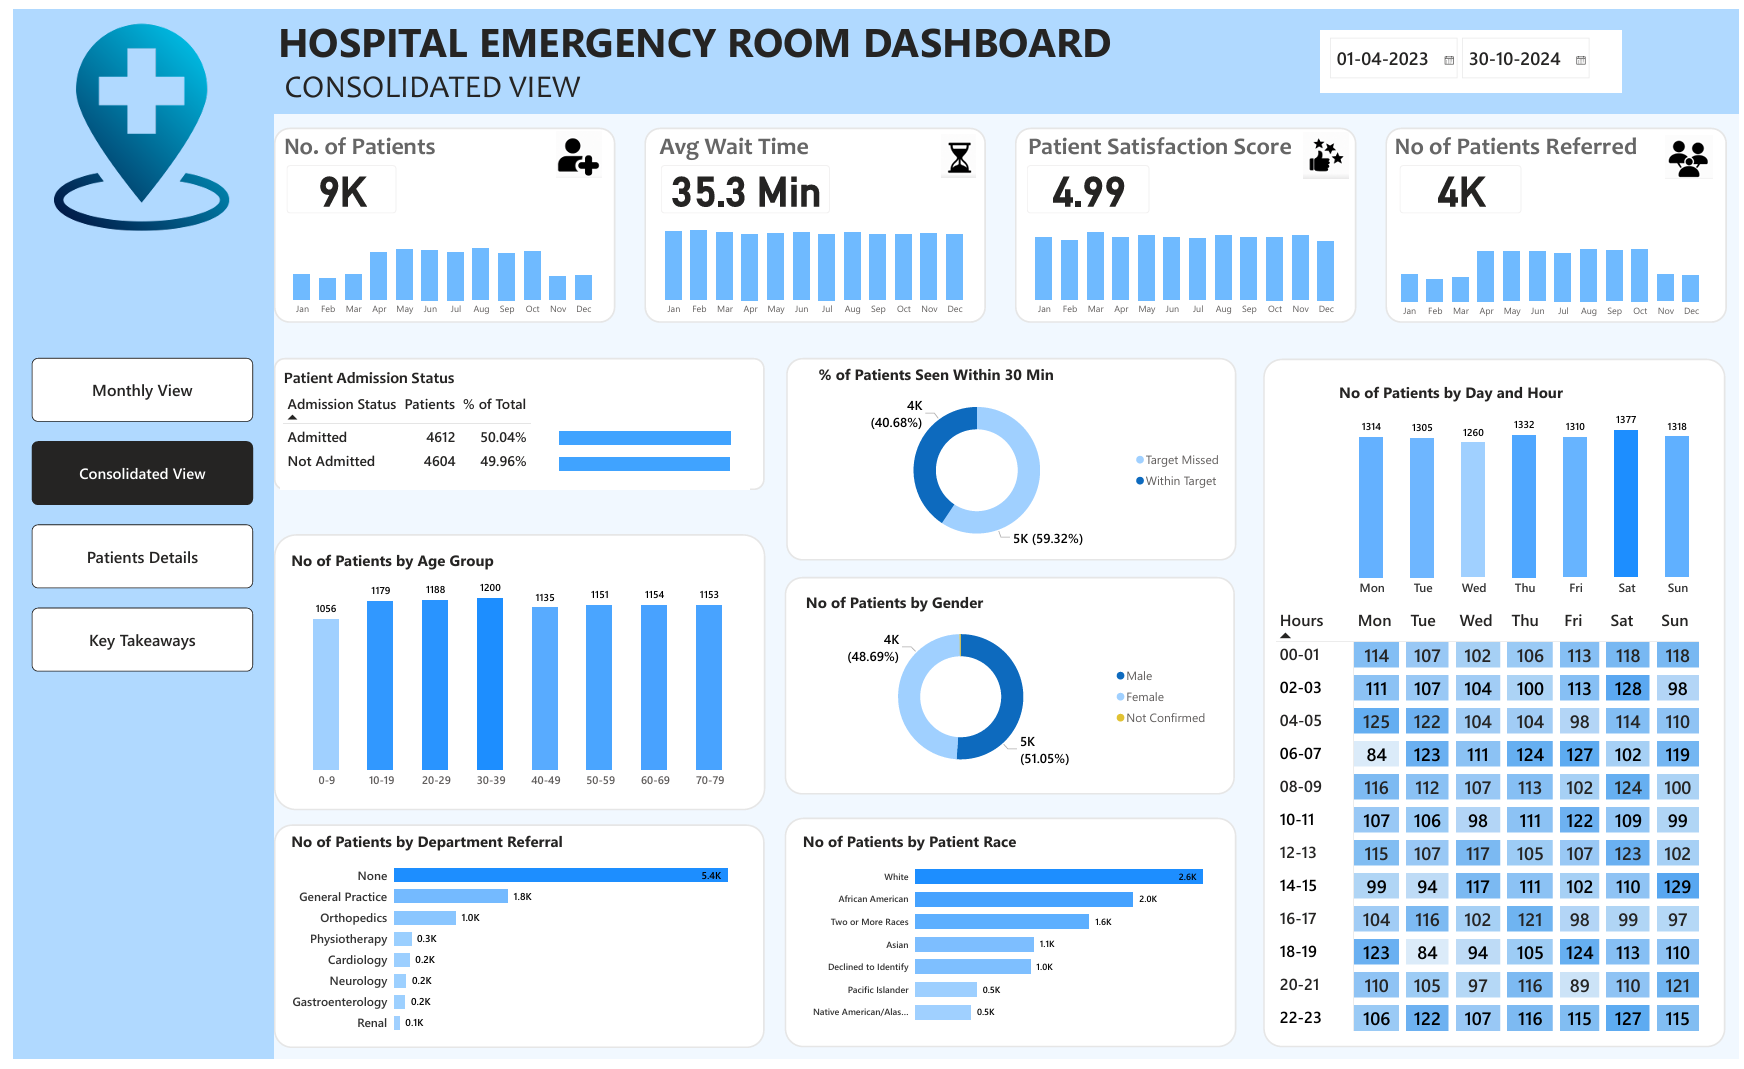

The page's visual inventory and layout, read from the dashboard file:
{"tool":"powerbi","page":{"name":"Consolidated View","canvas":[2300,1400],"ordinal":1},"visuals":[{"type":"shape","box":[347.6,157.5,455,259.7],"z":0},{"type":"shape","box":[348,0,1952,140],"z":1000},{"type":"textbox","box":[348,0,1162,92],"z":2000},{"type":"textbox","box":[356.8,70.5,445.5,86.4],"z":3000},{"type":"cardVisual","fields":{"Data":["Hospital ER_Data.No of Patients"]},"box":[347.6,190.2,179.9,98.2],"z":4000},{"type":"slicer","fields":{"Values":["Date Table.Date"]},"box":[1743.2,27.3,402.3,84.1],"z":5000},{"type":"textbox","box":[355.8,157.5,249.5,49.1],"z":7000},{"type":"columnChart","fields":{"Category":["Date Table.Month Name"],"Y":["Hospital ER_Data.No of Patients"]},"box":[355.8,272,435.5,145.2],"z":8000},{"type":"shape","box":[841.8,157.5,455,259.7],"z":9000},{"type":"shape","box":[1336,157.5,455,259.7],"z":10000},{"type":"shape","box":[1830.1,157.5,455,259.7],"z":11000},{"type":"textbox","box":[856.8,157.5,249.5,49.1],"z":12000},{"type":"cardVisual","fields":{"Data":["Hospital ER_Data.Avg Wait Time"]},"box":[846.6,190.2,259.7,98.2],"z":13000},{"type":"columnChart","fields":{"Y":["Avg(Hospital ER_Data.Patient Waittime)"],"Category":["Date Table.Month Name"]},"box":[850.6,272,435.5,145.2],"z":14000},{"type":"textbox","box":[1347.5,157.5,368.1,49.1],"z":15000},{"type":"cardVisual","fields":{"Data":["Hospital ER_Data.Patient Satisfy Score"]},"box":[1335.3,190.2,196.3,98.2],"z":16000},{"type":"shape","box":[347.6,464.2,654.3,175.9],"z":17000},{"type":"columnChart","fields":{"Y":["Avg(Hospital ER_Data.Patient Satisfaction Score)"],"Category":["Date Table.Month Name"]},"box":[1345.5,272,435.5,145.2],"z":18000},{"type":"textbox","box":[1830.1,157.5,368.1,49.1],"z":19000},{"type":"cardVisual","fields":{"Data":["Hospital ER_Data.No of Patient referral"]},"box":[1832.2,190.2,196.3,98.2],"z":20000},{"type":"columnChart","fields":{"Y":["Hospital ER_Data.No of Patient referral"],"Category":["Date Table.Month Name"]},"box":[1832.2,274,435.5,145.2],"z":21000},{"type":"pivotTable","title":"Patient Admission Status","fields":{"Rows":["Hospital ER_Data.Admission Status"],"Values":["Hospital ER_Data.No of Patients1","Hospital ER_Data.No of Patients"]},"box":[355.8,478.5,625.7,161.5],"z":22000},{"type":"barChart","fields":{"Category":["Hospital ER_Data.Admission Status"],"Y":["Hospital ER_Data.No of Patients"]},"box":[723.9,531.7,306.7,108.4],"z":23000},{"type":"shape","box":[347.6,699.3,655,368],"z":24000},{"type":"clusteredColumnChart","fields":{"Category":["Hospital ER_Data.Age Group"],"Y":["Hospital ER_Data.No of Patients"]},"box":[366,719.8,615.5,327.2],"z":25000},{"type":"shape","box":[347.6,1085.8,654.3,298.5],"z":26000},{"type":"shape","box":[1029.2,756.2,600,289.6],"z":27000},{"type":"clusteredBarChart","fields":{"Category":["Hospital ER_Data.Department Referral"],"Y":["Hospital ER_Data.No of Patients"]},"box":[366,1094,615.5,282.2],"z":28000},{"type":"shape","box":[1666.7,464.6,616.7,918.8],"z":29000},{"type":"shape","box":[1030.6,464.2,600,270],"z":30000},{"type":"donutChart","title":"% of Patients Seen Within 30 Min","fields":{"Category":["Hospital ER_Data.Waittime"],"Y":["Hospital ER_Data.No of Patients"]},"box":[1069.4,472.4,552.1,255.6],"z":31000},{"type":"donutChart","title":"No of Patients by Gender","fields":{"Category":["Hospital ER_Data.Patient Gender"],"Y":["Hospital ER_Data.No of Patients"]},"box":[1052.1,775,552.1,254.2],"z":32000},{"type":"shape","box":[1029.2,1077.1,602.1,306.2],"z":33000},{"type":"clusteredBarChart","fields":{"Category":["Hospital ER_Data.Patient Race"],"Y":["Hospital ER_Data.No of Patients"]},"box":[1047.9,1093.8,566.7,268.8],"z":34000},{"type":"pivotTable","fields":{"Rows":["Hospital ER_Data.Waittime Interval"],"Columns":["Date Table.Day Name"],"Values":["Hospital ER_Data.No of Patients"]},"box":[1679.2,791.7,587.5,585.4],"z":35000},{"type":"columnChart","title":"No of Patients by Day and Hour","fields":{"Category":["Date Table.Day Name"],"Y":["Hospital ER_Data.No of Patients"]},"box":[1762.5,495.8,506.2,295.8],"z":36000},{"type":"shape","box":[0,0,346.7,1400],"z":37000},{"type":"image","box":[31.8,18.2,279.5,277.3],"z":38000},{"type":"image","box":[1720,164,62,62],"z":39000},{"type":"image","box":[1236,166,50,58],"z":40000},{"type":"image","box":[716,162,76,62],"z":41000},{"type":"image","box":[2200,168,68,58],"z":42000},{"type":"pageNavigator","box":[25,463.6,295.5,420.5],"z":42001}]}

Visuals, with their boxes in screenshot pixels (x1, y1, x2, y2), scaled from the page's 2300x1400 canvas onto the 1744x1069 screenshot:
shape: {"x1": 264, "y1": 120, "x2": 609, "y2": 319}
shape: {"x1": 264, "y1": 0, "x2": 1743, "y2": 107}
textbox: {"x1": 264, "y1": 0, "x2": 1145, "y2": 70}
textbox: {"x1": 271, "y1": 54, "x2": 608, "y2": 120}
cardVisual - Hospital ER_Data.No of Patients: {"x1": 264, "y1": 145, "x2": 400, "y2": 220}
slicer - Date Table.Date: {"x1": 1322, "y1": 21, "x2": 1627, "y2": 85}
textbox: {"x1": 270, "y1": 120, "x2": 459, "y2": 158}
columnChart - Date Table.Month Name x Hospital ER_Data.No of Patients: {"x1": 270, "y1": 208, "x2": 600, "y2": 319}
shape: {"x1": 638, "y1": 120, "x2": 983, "y2": 319}
shape: {"x1": 1013, "y1": 120, "x2": 1358, "y2": 319}
shape: {"x1": 1388, "y1": 120, "x2": 1733, "y2": 319}
textbox: {"x1": 650, "y1": 120, "x2": 839, "y2": 158}
cardVisual - Hospital ER_Data.Avg Wait Time: {"x1": 642, "y1": 145, "x2": 839, "y2": 220}
columnChart - Avg(Hospital ER_Data.Patient Waittime) x Date Table.Month Name: {"x1": 645, "y1": 208, "x2": 975, "y2": 319}
textbox: {"x1": 1022, "y1": 120, "x2": 1301, "y2": 158}
cardVisual - Hospital ER_Data.Patient Satisfy Score: {"x1": 1013, "y1": 145, "x2": 1161, "y2": 220}
shape: {"x1": 264, "y1": 354, "x2": 760, "y2": 489}
columnChart - Avg(Hospital ER_Data.Patient Satisfaction Score) x Date Table.Month Name: {"x1": 1020, "y1": 208, "x2": 1350, "y2": 319}
textbox: {"x1": 1388, "y1": 120, "x2": 1667, "y2": 158}
cardVisual - Hospital ER_Data.No of Patient referral: {"x1": 1389, "y1": 145, "x2": 1538, "y2": 220}
columnChart - Hospital ER_Data.No of Patient referral x Date Table.Month Name: {"x1": 1389, "y1": 209, "x2": 1720, "y2": 320}
"Patient Admission Status" pivotTable: {"x1": 270, "y1": 365, "x2": 744, "y2": 489}
barChart - Hospital ER_Data.Admission Status x Hospital ER_Data.No of Patients: {"x1": 549, "y1": 406, "x2": 781, "y2": 489}
shape: {"x1": 264, "y1": 534, "x2": 760, "y2": 815}
clusteredColumnChart - Hospital ER_Data.Age Group x Hospital ER_Data.No of Patients: {"x1": 278, "y1": 550, "x2": 744, "y2": 799}
shape: {"x1": 264, "y1": 829, "x2": 760, "y2": 1057}
shape: {"x1": 780, "y1": 577, "x2": 1235, "y2": 799}
clusteredBarChart - Hospital ER_Data.Department Referral x Hospital ER_Data.No of Patients: {"x1": 278, "y1": 835, "x2": 744, "y2": 1051}
shape: {"x1": 1264, "y1": 355, "x2": 1731, "y2": 1056}
shape: {"x1": 781, "y1": 354, "x2": 1236, "y2": 561}
"% of Patients Seen Within 30 Min" donutChart: {"x1": 811, "y1": 361, "x2": 1230, "y2": 556}
"No of Patients by Gender" donutChart: {"x1": 798, "y1": 592, "x2": 1216, "y2": 786}
shape: {"x1": 780, "y1": 822, "x2": 1237, "y2": 1056}
clusteredBarChart - Hospital ER_Data.Patient Race x Hospital ER_Data.No of Patients: {"x1": 795, "y1": 835, "x2": 1224, "y2": 1040}
pivotTable - Hospital ER_Data.Waittime Interval x Date Table.Day Name: {"x1": 1273, "y1": 605, "x2": 1719, "y2": 1052}
"No of Patients by Day and Hour" columnChart: {"x1": 1336, "y1": 379, "x2": 1720, "y2": 604}
shape: {"x1": 0, "y1": 0, "x2": 263, "y2": 1068}
image: {"x1": 24, "y1": 14, "x2": 236, "y2": 226}
image: {"x1": 1304, "y1": 125, "x2": 1351, "y2": 173}
image: {"x1": 937, "y1": 127, "x2": 975, "y2": 171}
image: {"x1": 543, "y1": 124, "x2": 601, "y2": 171}
image: {"x1": 1668, "y1": 128, "x2": 1720, "y2": 173}
pageNavigator: {"x1": 19, "y1": 354, "x2": 243, "y2": 675}
